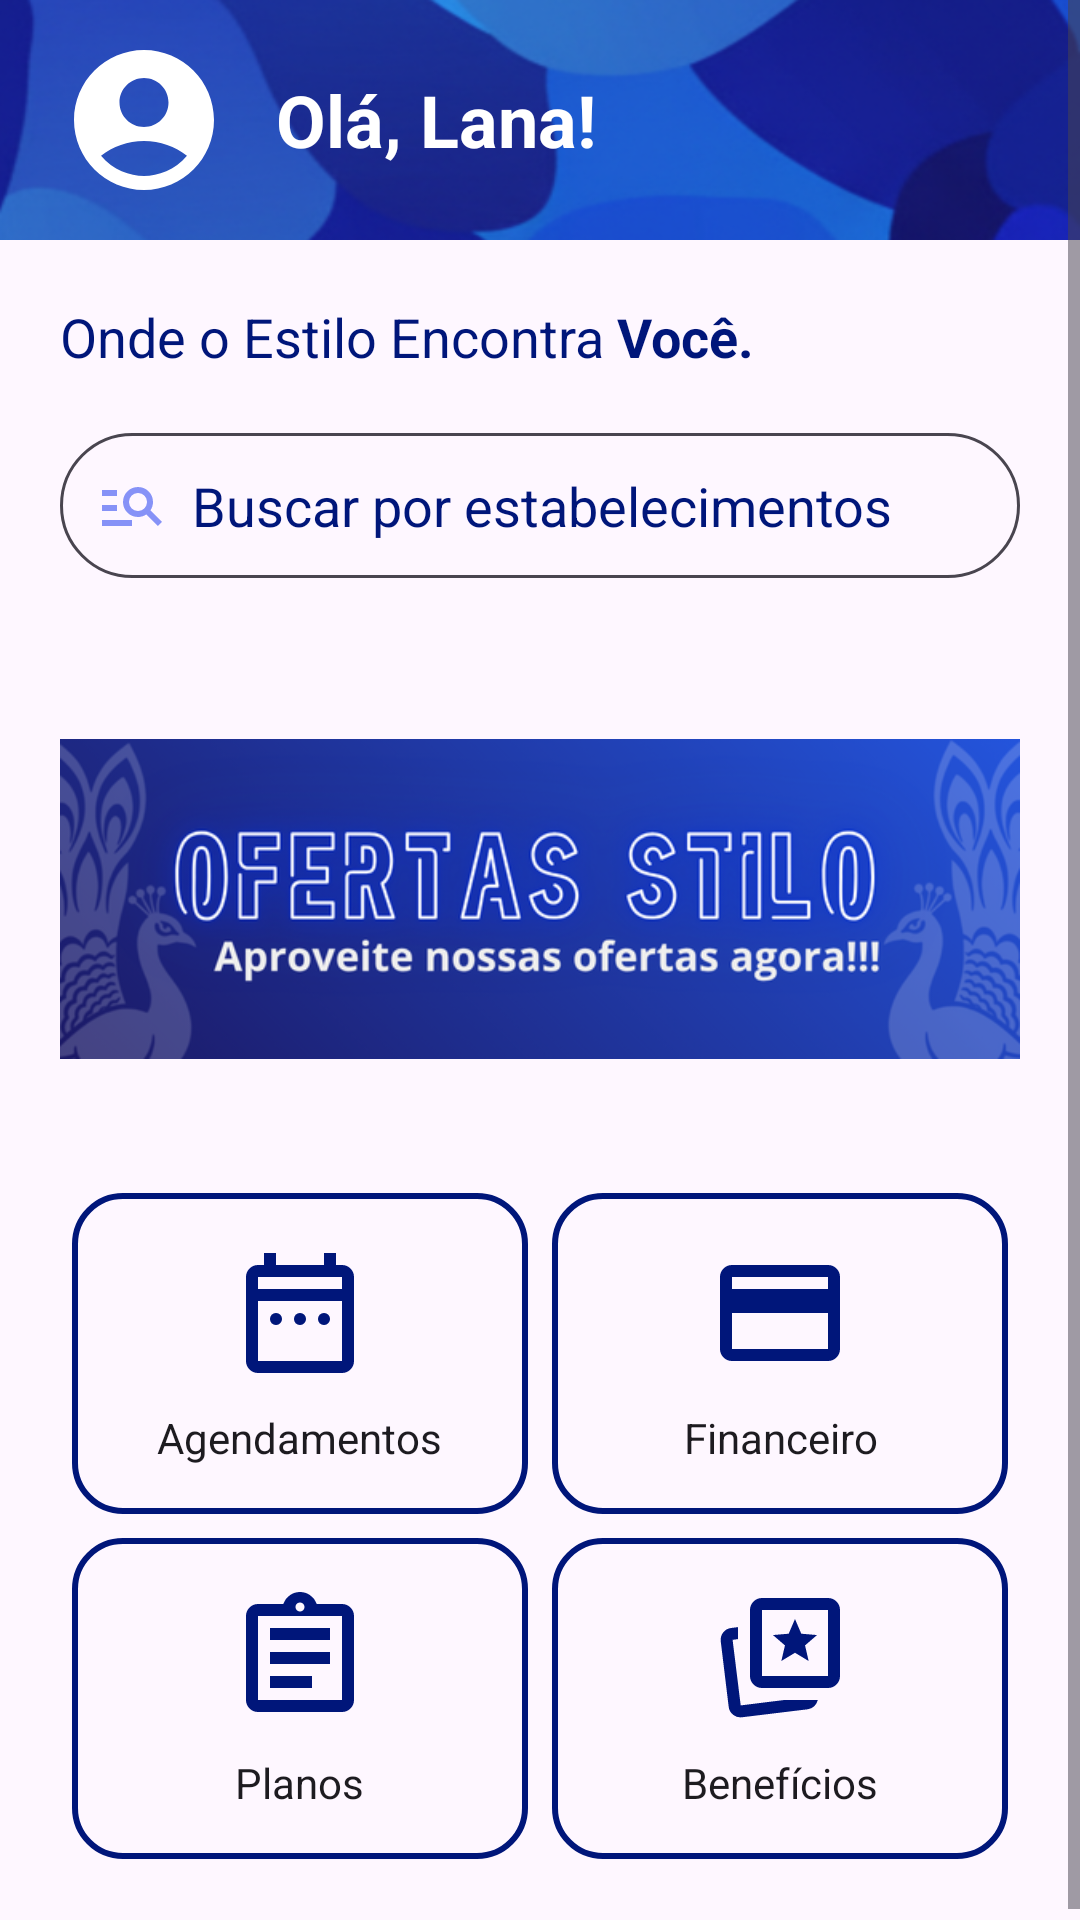

Screen size 1080 × 1920. Icon name, then its center in pixels as point (x, y):
Acessar Perfil: point (144, 120)
assignment: point (300, 1652)
cards star: point (780, 1658)
credit card: point (780, 1313)
date range: point (300, 1313)
